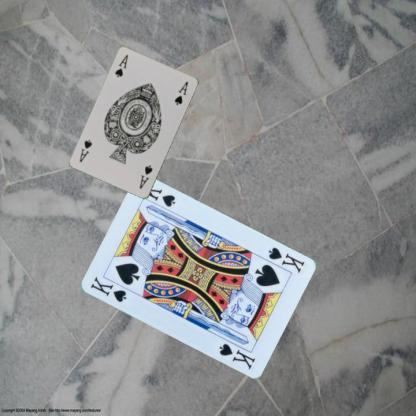As: (137, 163, 154, 190), (113, 52, 130, 79)
Ks: (265, 244, 306, 274), (88, 274, 128, 304)
